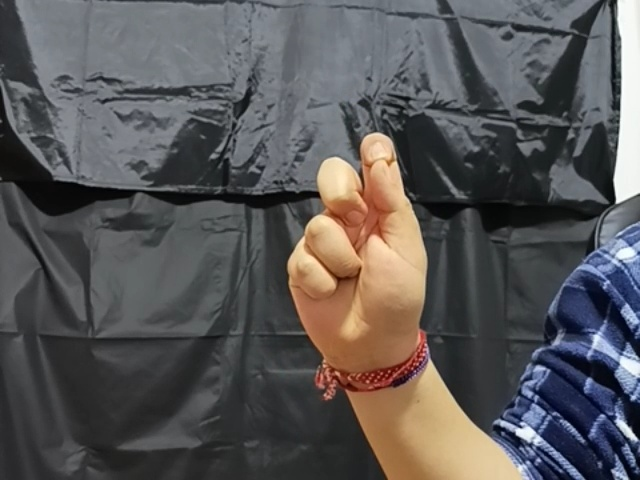T: (281, 131, 432, 351)
